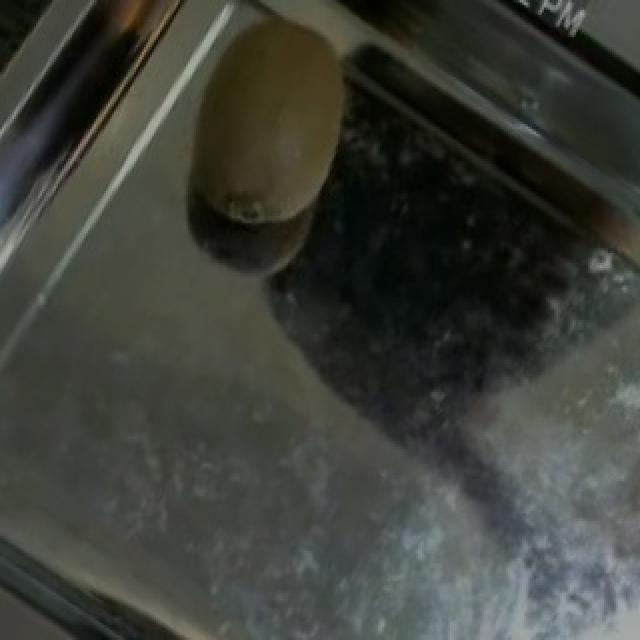Fruit: (144, 0, 386, 265)
